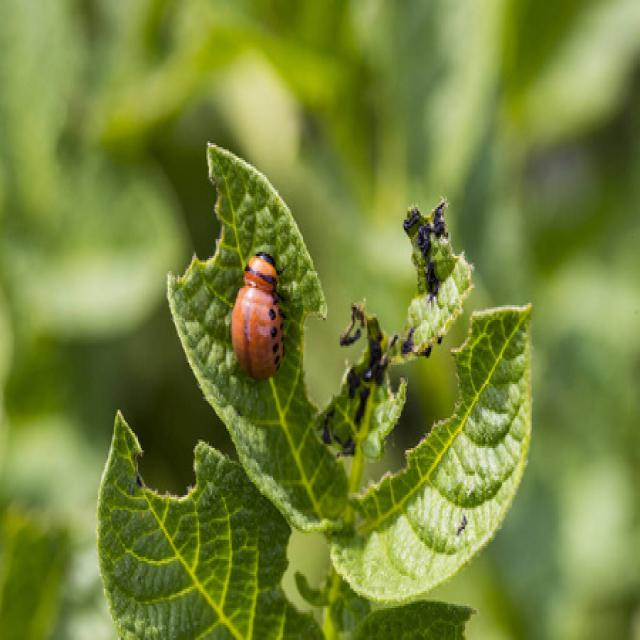ShuCaiHuaBanChong-Larva-: (208, 228, 298, 394)
